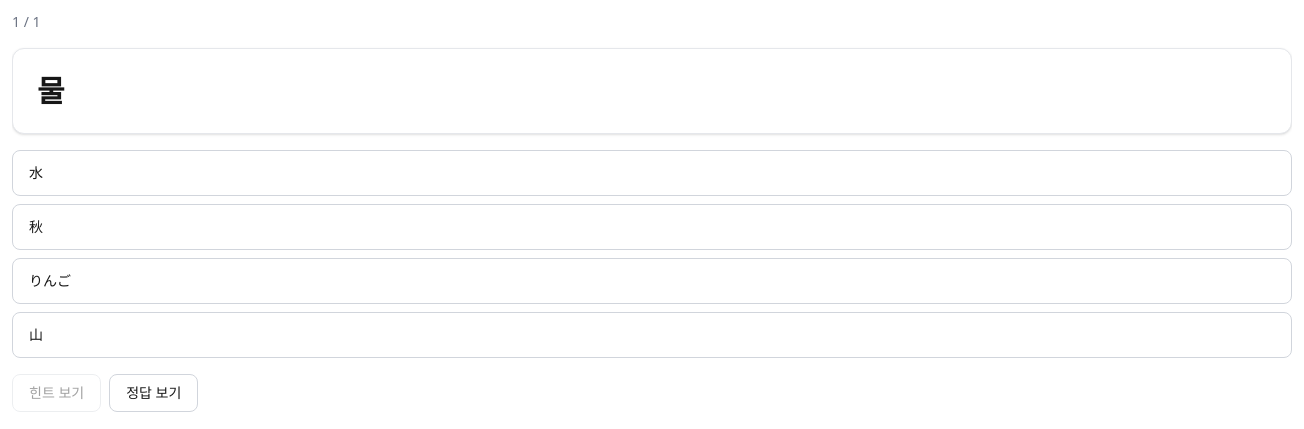
Test: QuizPlayer › 역방향: 피드백 단계에서 각 보기 단어의 뜻이 함께 표시된다
The image size is (1304, 429).
Expected: the text "가을" is not shown
Click the button "水": (36, 172) [12,150,1292,196]
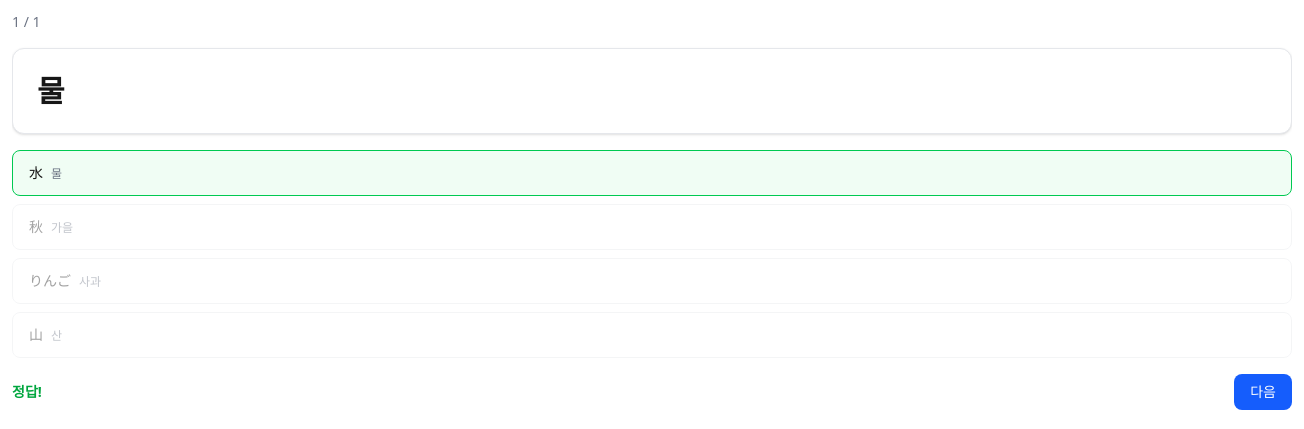
Now the text "가을" is shown, box [51,219,73,236]
Now the text "사과" is shown, box [79,273,101,290]
Now the text "산" is shown, box [51,327,62,344]
